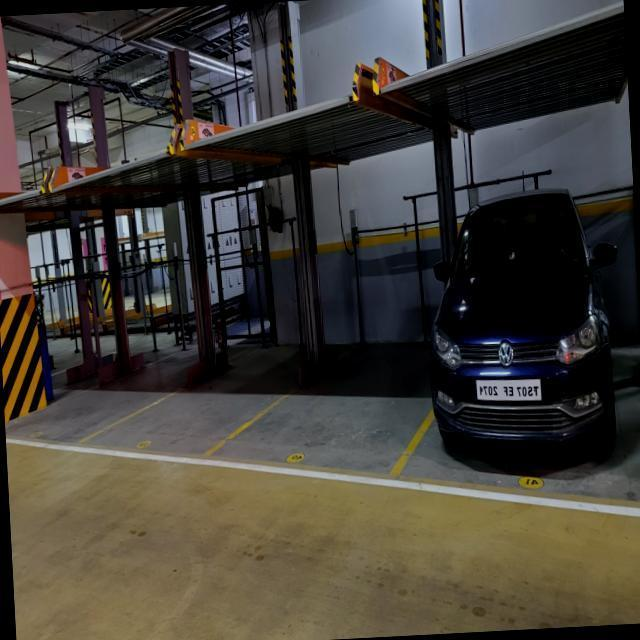space-empty: (233, 246, 435, 493), (108, 315, 257, 483), (7, 318, 135, 454)
space-occupied: (419, 226, 638, 492)
